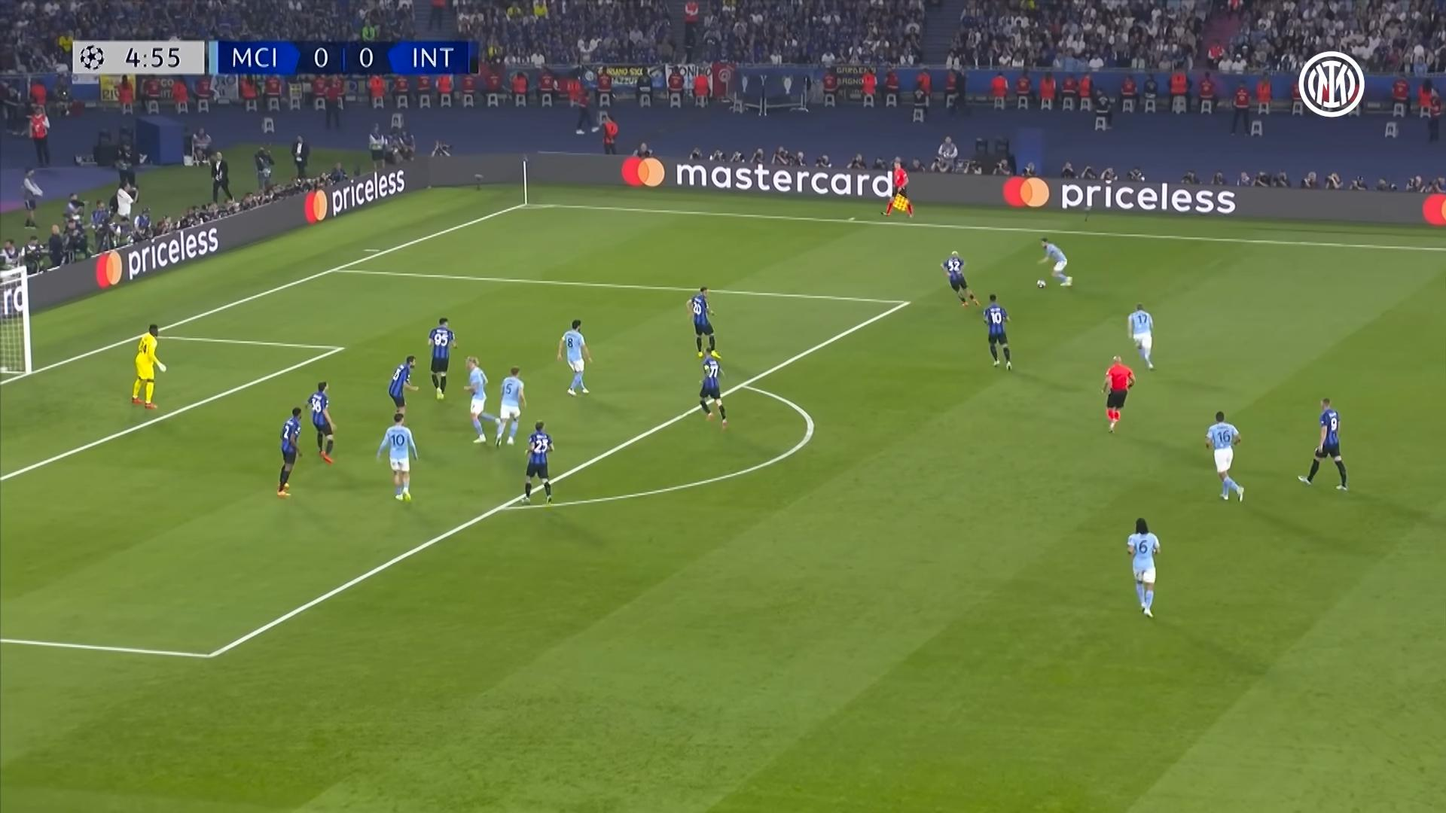Goalkeeper: (130, 325, 167, 409)
Player: (1299, 398, 1347, 491), (376, 412, 418, 502), (1206, 412, 1245, 502), (1127, 519, 1161, 618), (463, 356, 500, 442), (520, 421, 554, 505), (556, 319, 590, 394), (277, 406, 302, 498), (308, 381, 336, 463), (700, 350, 729, 429), (940, 251, 980, 308), (497, 367, 525, 446), (429, 316, 455, 401), (686, 285, 715, 357), (983, 294, 1011, 368), (1127, 302, 1155, 368), (387, 356, 418, 415), (1039, 237, 1073, 288)
ball: (1036, 279, 1045, 288)
referee: (1101, 356, 1135, 430), (884, 158, 915, 217)
